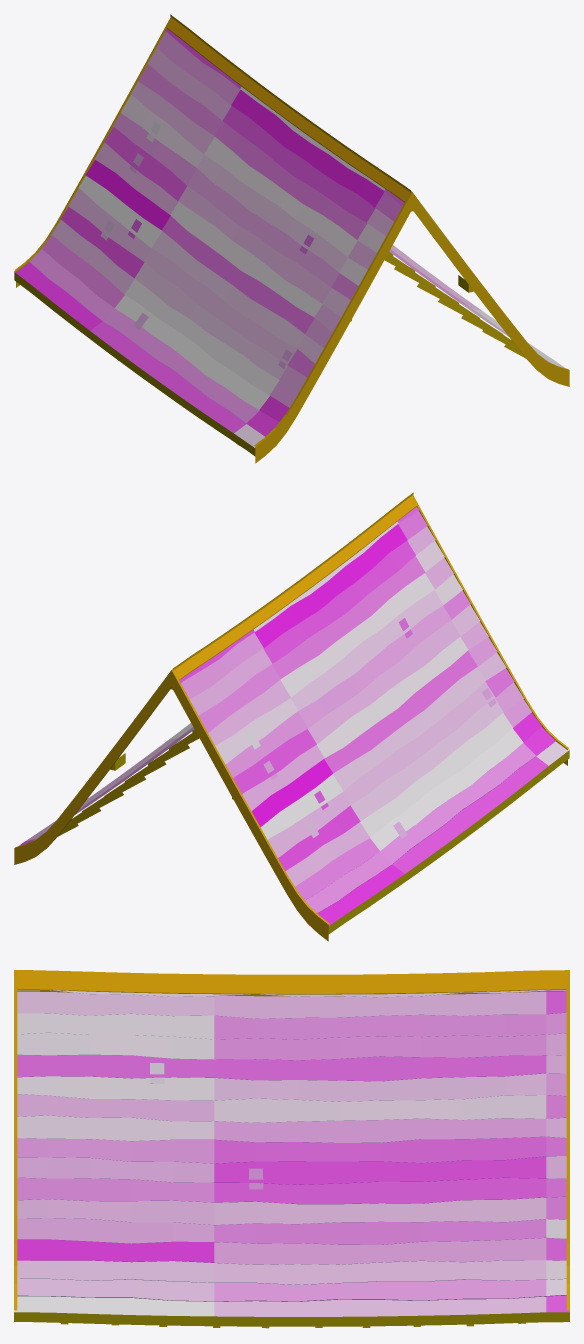
Rendered from roof_s_4x6.glb.
3 views of the same model, one above another, from view 1: azimuth 30°, elevation 25°; view 2: azimuth 150°, elevation 25°; view 3: azimuth 270°, elevation 25° (orthographic). The views are drawn at different scales.
Parts seen in each view (by area): view 1: roof_s_4x6; view 2: roof_s_4x6; view 3: roof_s_4x6.
Boxes of the visible parts, bbox=[...] form: roof_s_4x6: bbox=[14, 14, 569, 463]; roof_s_4x6: bbox=[14, 492, 569, 941]; roof_s_4x6: bbox=[14, 970, 569, 1328].
Bounding box in the file's own units: 5.06 × 3.6 × 6.7.
